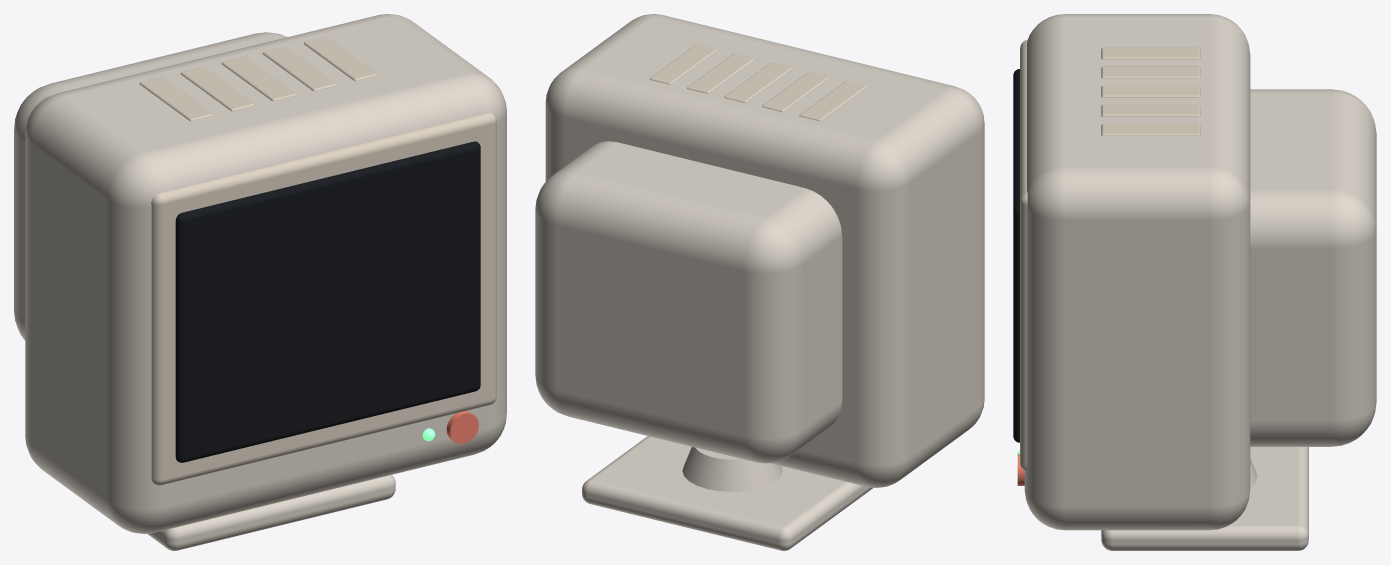
Rendered from cartoon_monitor.glb.
3 renders of one model, left to right at view 1: azimuth 30°, elevation 25°; view 2: azimuth 150°, elevation 25°; view 3: azimuth 270°, elevation 25°, orthographic. The views are drawn at different scales.
Visible parts, largest first — view 1: MonitorShell, MonitorGlass, MonitorBezel, MonitorHousing, MonitorFoot, MonitorVent1, MonitorVent3, MonitorVent4, MonitorVent5, MonitorVent2, MonitorPowerButton; view 2: MonitorShell, MonitorHousing, MonitorFoot, MonitorNeck, MonitorVent5, MonitorVent4, MonitorVent2, MonitorVent3, MonitorVent1; view 3: MonitorShell, MonitorHousing, MonitorFoot, MonitorBezel, MonitorGlass, MonitorVent1, MonitorVent2, MonitorVent3, MonitorVent4, MonitorVent5.
Boxes of the visible parts, x1,y1,x2,y2 form: MonitorShell: (25,14,506,533); MonitorGlass: (175,141,480,462); MonitorBezel: (151,112,496,485); MonitorHousing: (14,32,287,340); MonitorFoot: (147,475,395,550); MonitorVent1: (139,77,214,121); MonitorVent3: (221,57,296,101); MonitorVent4: (262,47,337,91); MonitorVent5: (303,37,378,81); MonitorVent2: (180,67,255,111); MonitorPowerButton: (446,411,478,444); MonitorShell: (545,14,984,487); MonitorHousing: (535,141,842,463); MonitorFoot: (582,436,873,550); MonitorNeck: (682,447,782,491); MonitorVent5: (649,44,717,84); MonitorVent4: (687,53,755,93); MonitorVent2: (762,71,829,112); MonitorVent3: (724,62,792,102); MonitorVent1: (799,81,867,121); MonitorShell: (1024,14,1250,530); MonitorHousing: (1250,89,1376,446); MonitorFoot: (1101,447,1308,550); MonitorBezel: (1020,39,1027,470); MonitorGlass: (1013,69,1019,442); MonitorVent1: (1101,47,1200,59); MonitorVent2: (1101,66,1200,78); MonitorVent3: (1101,85,1200,97); MonitorVent4: (1101,104,1200,116); MonitorVent5: (1101,123,1200,135).
Bounding box in the file's own units: 0.96 × 1 × 0.805.
